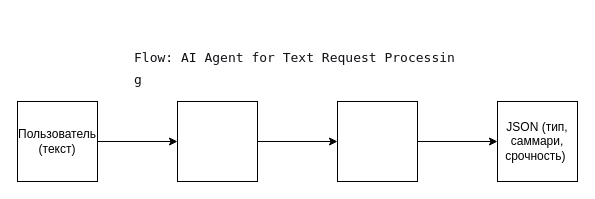
This 595x199 diagram has some shape labels left out. The shapes that lost their labels are listed below. From the top down, each one's centre as x and y in pixels, then its label:
At (217,141): "Python-скрипт (системный промт)".
At (377,141): "LLM (обработка)".
